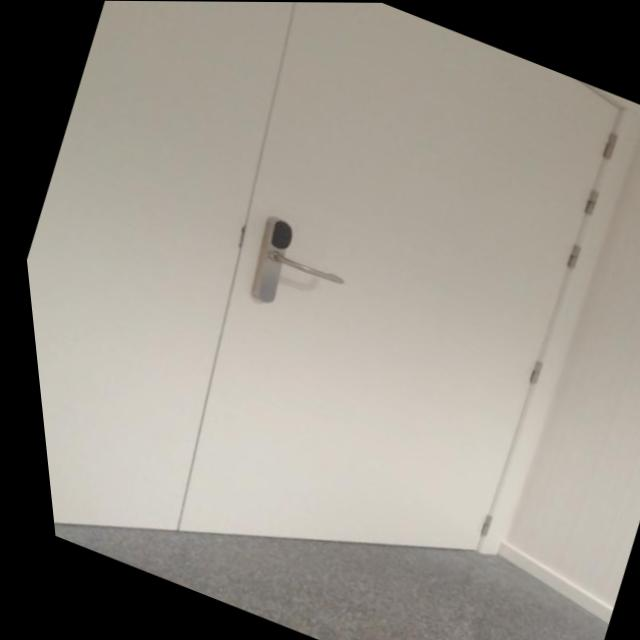door_handle: (252, 244, 347, 294)
